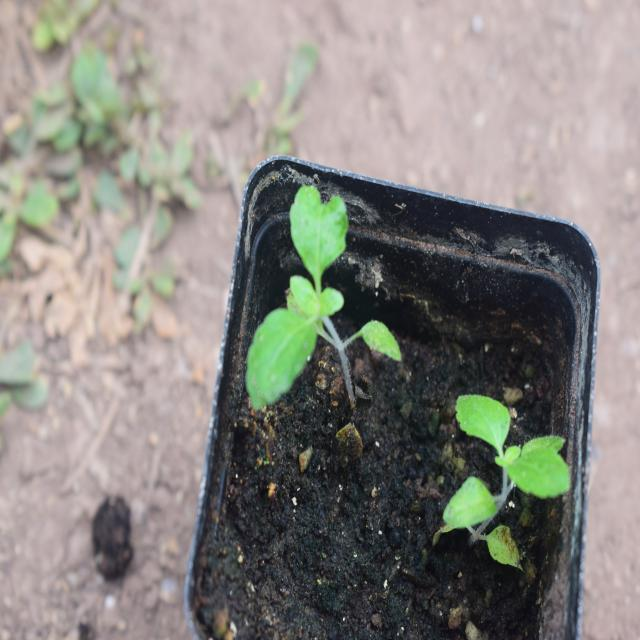billygoat_weed: (247, 172, 383, 416), (451, 364, 565, 556)
